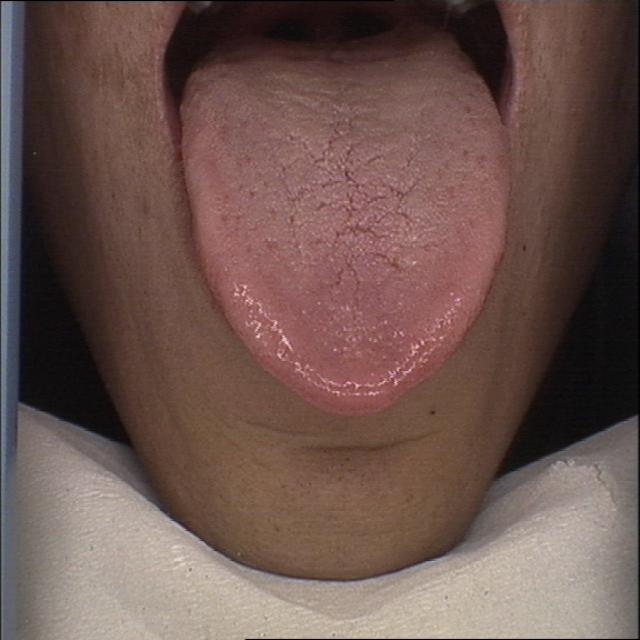tongue: (173, 29, 516, 418)
